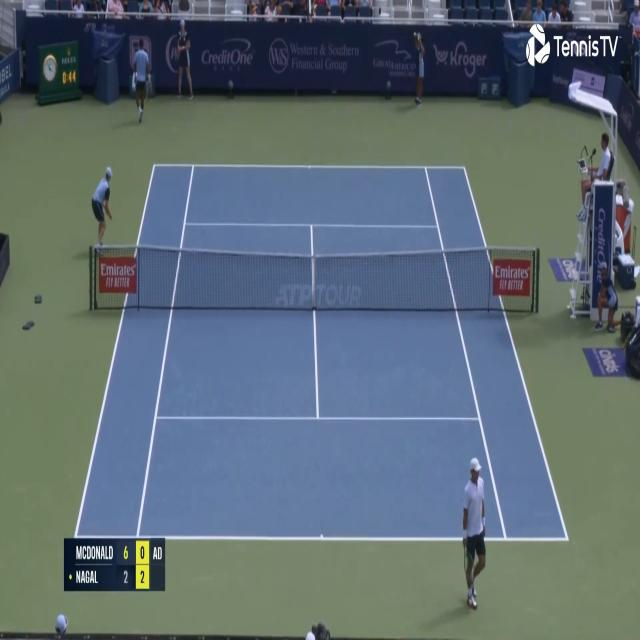tennis-player: (459, 453, 489, 612), (130, 35, 155, 124)
